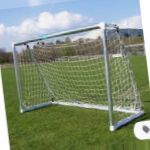goals: (10, 22, 145, 129)
